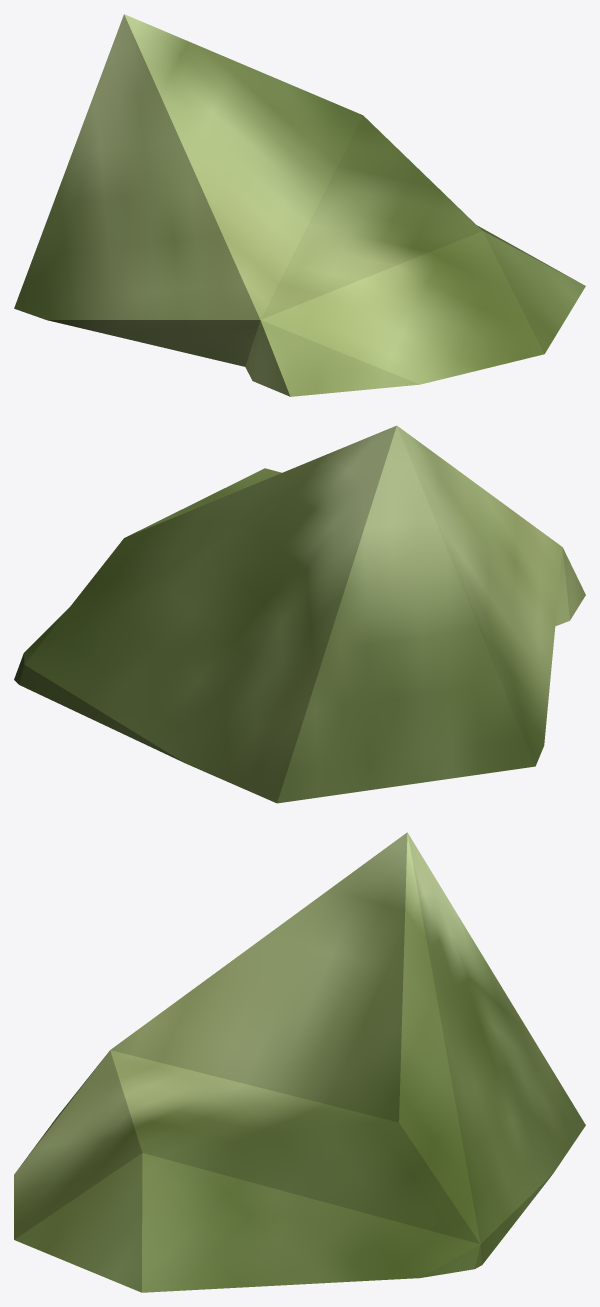
3 views of the same model, one above another, from view 1: azimuth 30°, elevation 25°; view 2: azimuth 150°, elevation 25°; view 3: azimuth 270°, elevation 25° (orthographic). The views are drawn at different scales.
Bounding box in the file's own units: 0.1689 × 0.0943 × 0.1724.
Materials: 1 (1 with a texture image).
